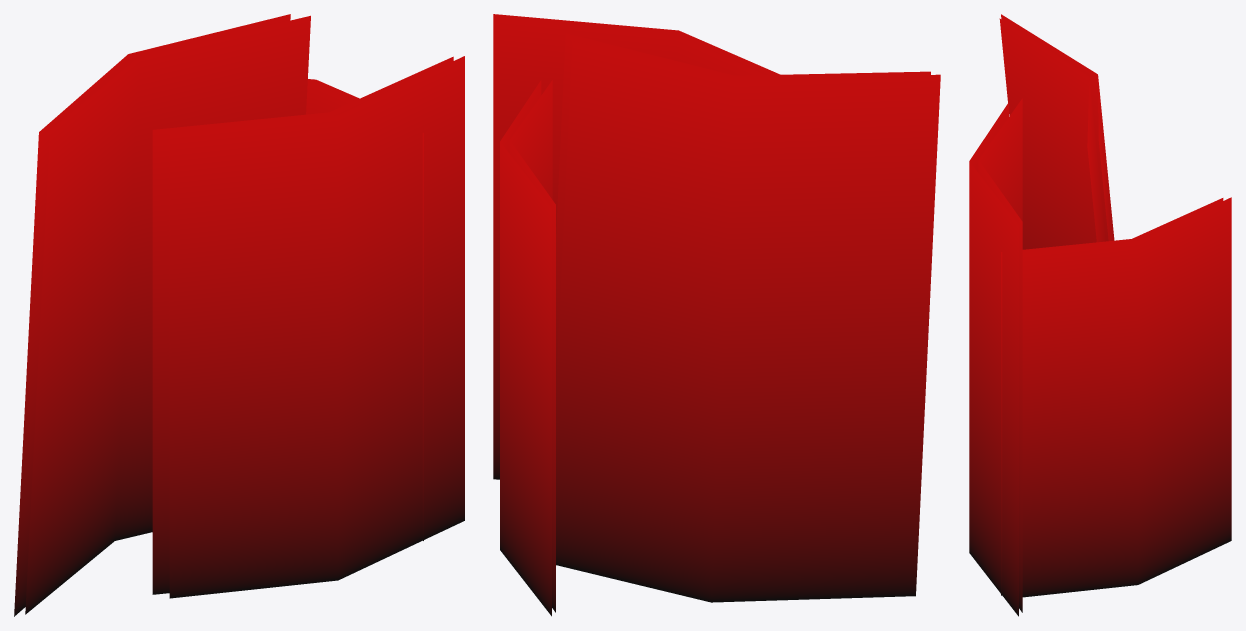
File: SM_Nature_Grass_04.fbx
The picture shows the model from 3 angles, left to right: view 1: azimuth 30°, elevation 25°; view 2: azimuth 150°, elevation 25°; view 3: azimuth 270°, elevation 25°; orthographic projection. The views are drawn at different scales.
Visible parts, largest first — view 1: SM_Nature_Grass_04; view 2: SM_Nature_Grass_04; view 3: SM_Nature_Grass_04.
Part boxes in pixels (x1,y1,x2,y2): SM_Nature_Grass_04: (14, 14, 464, 616); SM_Nature_Grass_04: (493, 14, 940, 616); SM_Nature_Grass_04: (969, 14, 1231, 616).
Bounding box in the file's own units: 25.73 × 28.32 × 15.91.
